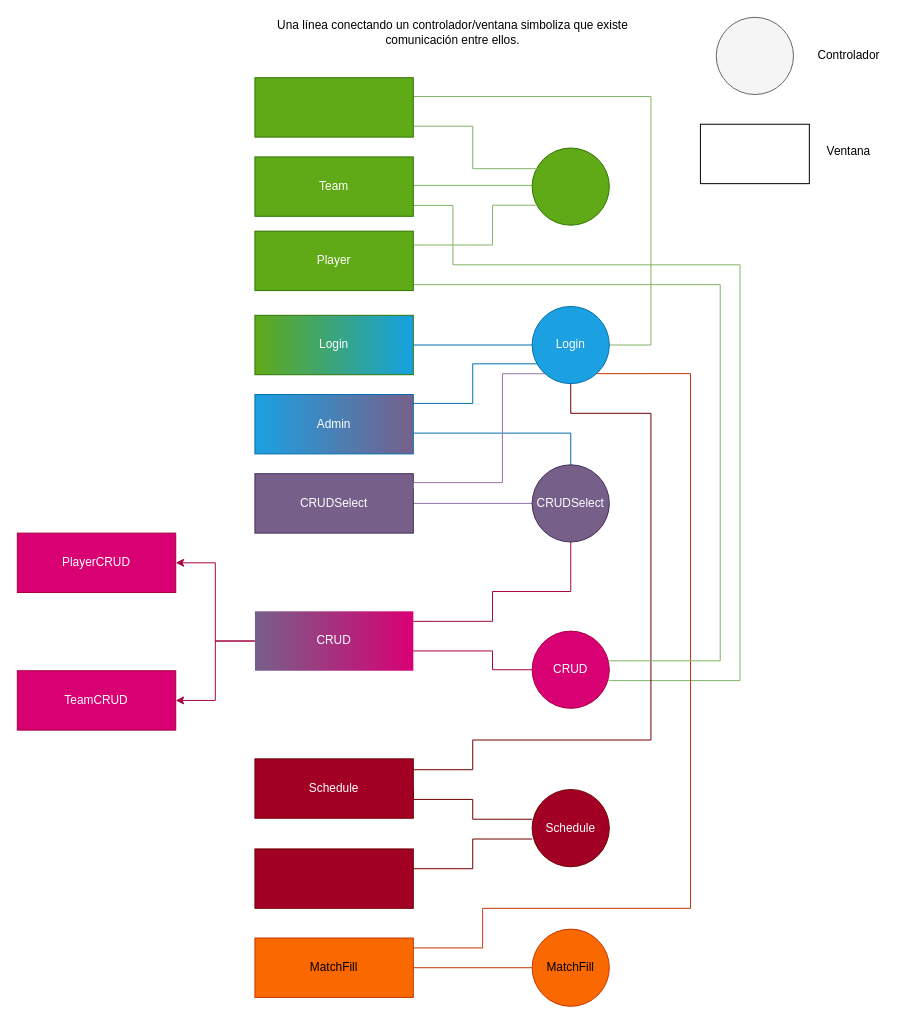
Some shapes in this 906 by 1024 pixel diagram are drawn without their labels. Each missing label, with the centre of its shape:
"Consult" belongs at point (570, 186).
"League" belongs at point (333, 107).
"MatchAdmin" belongs at point (333, 878).
